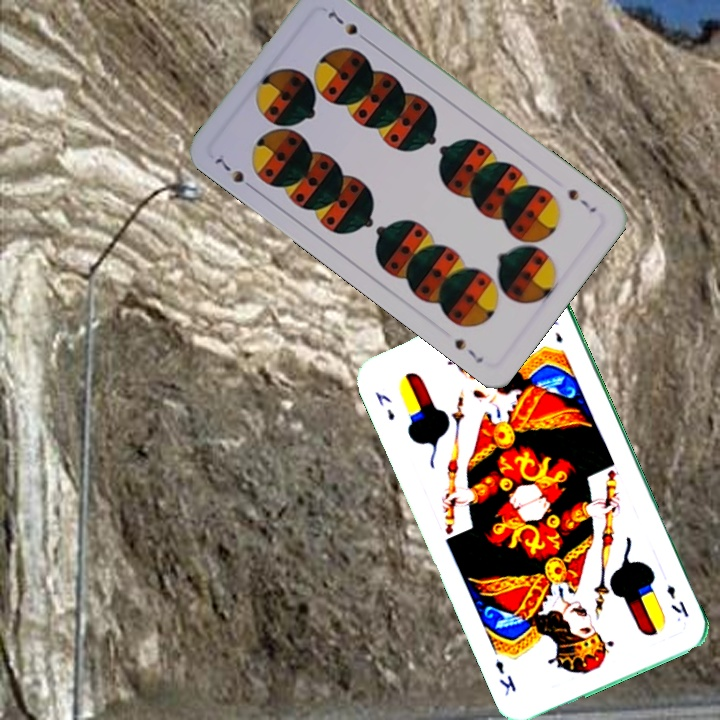EK: (662, 581, 692, 621), (371, 387, 398, 423)
S7: (210, 153, 259, 194), (564, 184, 600, 215)
